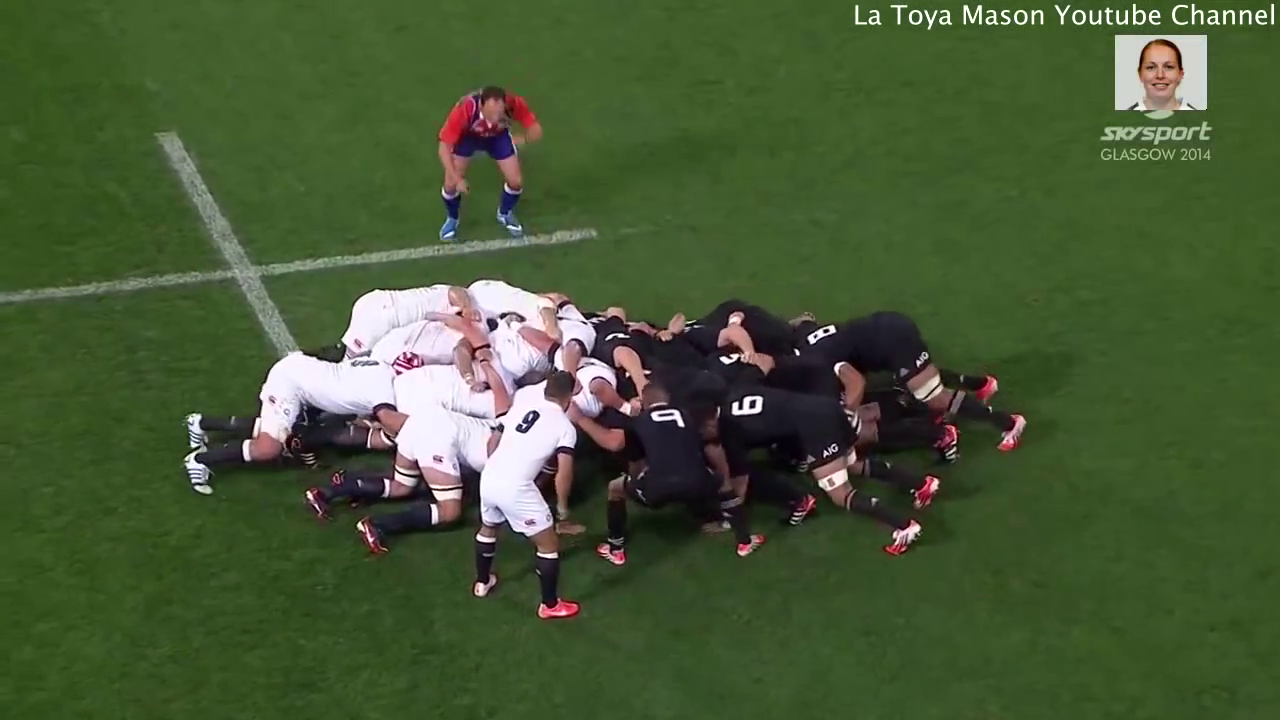player: (711, 395, 929, 551), (596, 381, 770, 558), (466, 369, 585, 626), (809, 310, 1027, 446), (180, 346, 384, 479), (413, 77, 555, 246)
scrum: (198, 274, 1025, 577)
